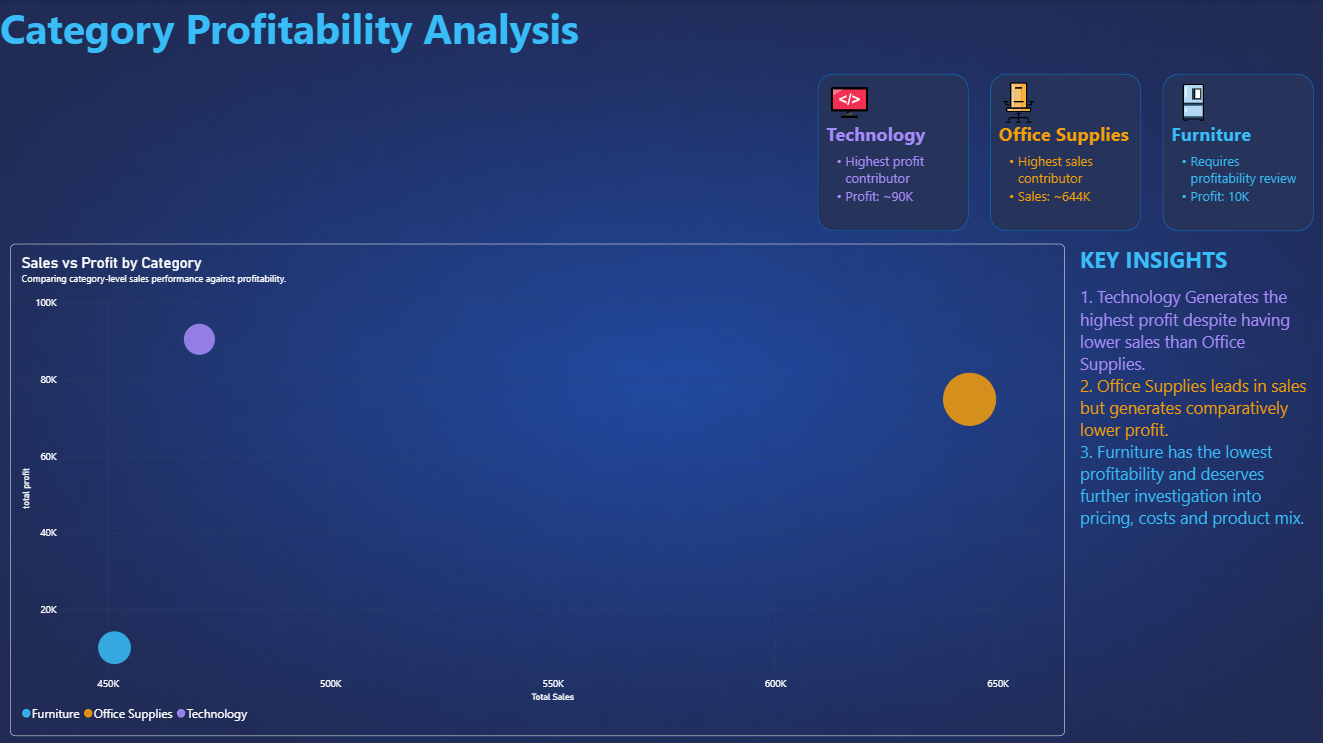

The page's visual inventory and layout, read from the dashboard file:
{"tool":"powerbi","page":{"name":"Category Profitability Analysis","canvas":[1920,1080],"ordinal":2},"visuals":[{"type":"scatterChart","title":"Sales vs Profit by Category","fields":{"Series":["SuperStore_Sales_Dataset.Category"],"Size":["Sum(SuperStore_Sales_Dataset.Quantity)"],"X":["SuperStore_Sales_Dataset.Total Sales"],"Y":["SuperStore_Sales_Dataset.total profit"]},"box":[14.5,352.9,1527.4,713],"z":0},{"type":"shape","box":[1183.3,106.8,219,228],"z":1},{"type":"textbox","box":[1196,175.5,191.8,45.2],"z":2},{"type":"textbox","box":[1196,220.8,191.8,114],"z":3},{"type":"shape","box":[1433.1,106.7,219,228],"z":4},{"type":"textbox","box":[1445.7,174.7,191.8,45.2],"z":5},{"type":"textbox","box":[1445.7,220.8,191.8,114],"z":6},{"type":"shape","box":[1682.8,106.8,219,228],"z":7},{"type":"textbox","box":[1695.4,175.5,191.8,45.2],"z":8},{"type":"textbox","box":[1695.2,220.4,191.8,114],"z":9},{"type":"textbox","box":[0,0,917.5,106.8],"z":10},{"type":"textbox","box":[1563.5,352.9,338.4,713],"z":11},{"type":"image","box":[1196.2,121.2,67,54.3],"z":12},{"type":"image","box":[1445.9,110.4,57.9,76],"z":13},{"type":"image","box":[1695.7,121.2,63.3,54.3],"z":14}]}

Visuals, with their boxes in screenshot pixels (x1, y1, x2, y2), scaled from the page's 1920x1080 canvas onto the 1323x743 screenshot:
"Sales vs Profit by Category" scatterChart: (10, 243, 1062, 733)
shape: (815, 73, 966, 230)
textbox: (824, 121, 956, 152)
textbox: (824, 152, 956, 230)
shape: (987, 73, 1138, 230)
textbox: (996, 120, 1128, 151)
textbox: (996, 152, 1128, 230)
shape: (1160, 73, 1310, 230)
textbox: (1168, 121, 1300, 152)
textbox: (1168, 152, 1300, 230)
textbox: (0, 0, 632, 73)
textbox: (1077, 243, 1311, 733)
image: (824, 83, 870, 121)
image: (996, 76, 1036, 128)
image: (1168, 83, 1212, 121)
